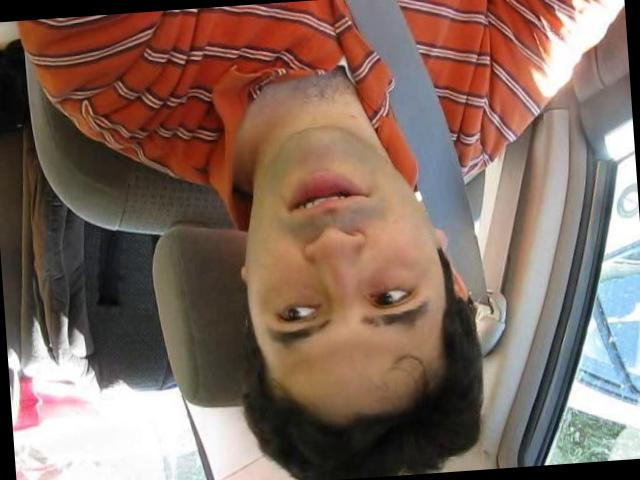eye_open: (267, 292, 326, 330), (363, 276, 420, 314)
face: (231, 116, 447, 368)
